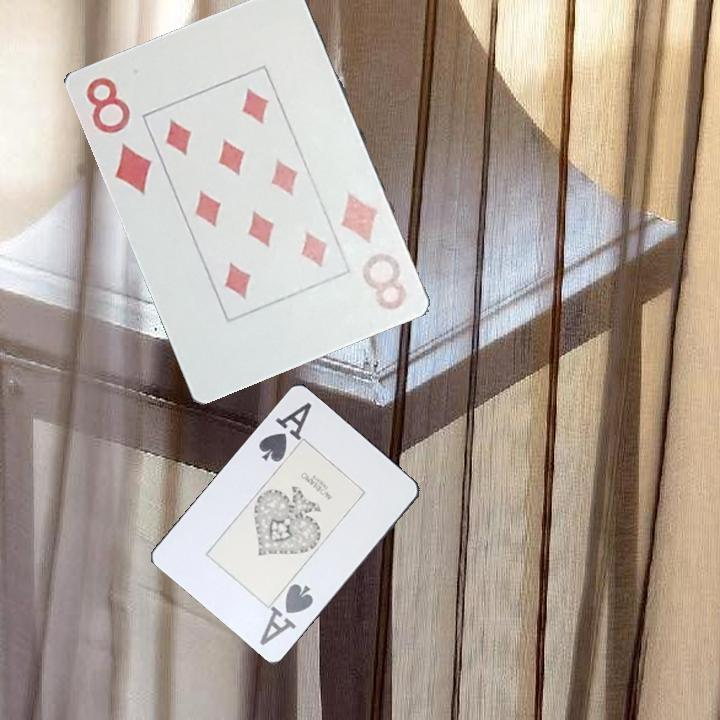8d: (336, 188, 411, 313), (81, 72, 154, 198)
As: (256, 580, 317, 649), (255, 399, 315, 466)
